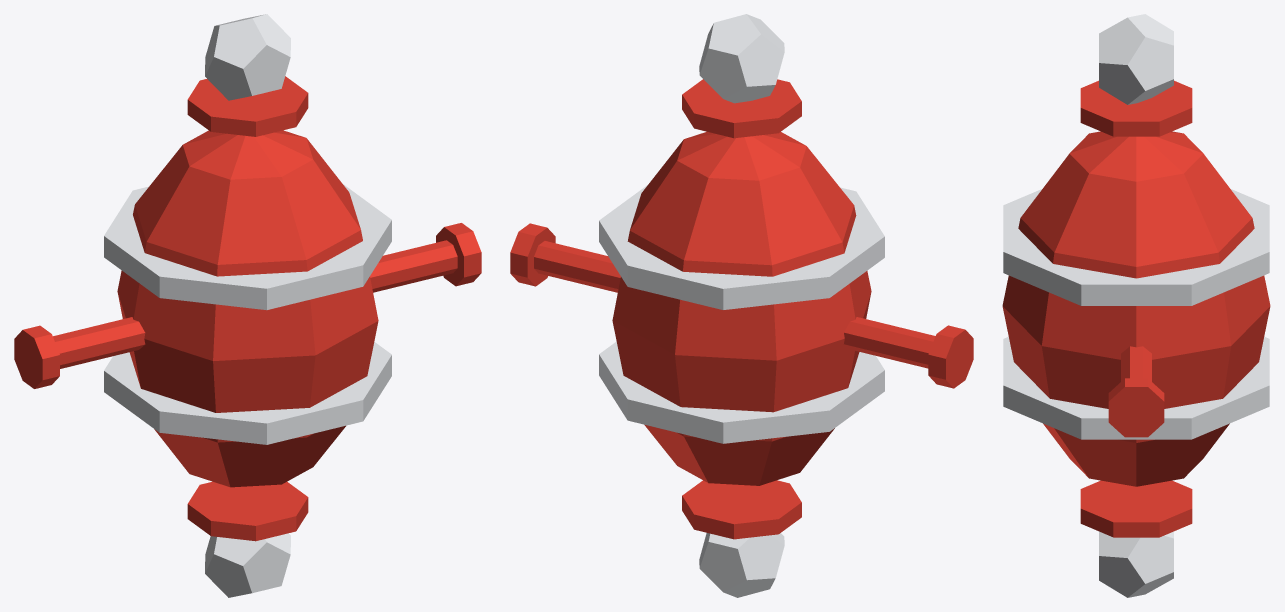
The model's file is queen.glb.
3 renders of one model, left to right at view 1: azimuth 30°, elevation 25°; view 2: azimuth 150°, elevation 25°; view 3: azimuth 270°, elevation 25°, orthographic.
Parts seen in each view (by area): view 1: queen; view 2: queen; view 3: queen.
Boxes of the visible parts, x1,y1,x2,y2 form: queen: (14, 14, 481, 597); queen: (510, 14, 973, 597); queen: (1002, 14, 1270, 597).
Size of the model in its own units: 0.75 by 0.9502 by 0.4.
